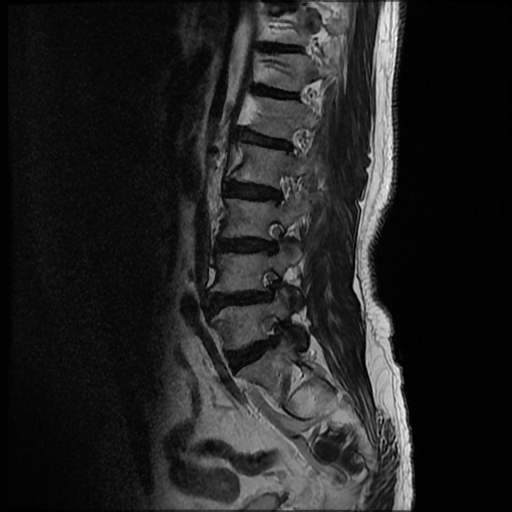RFS0: (257, 211, 288, 261)
RFS1: (257, 264, 288, 305)
